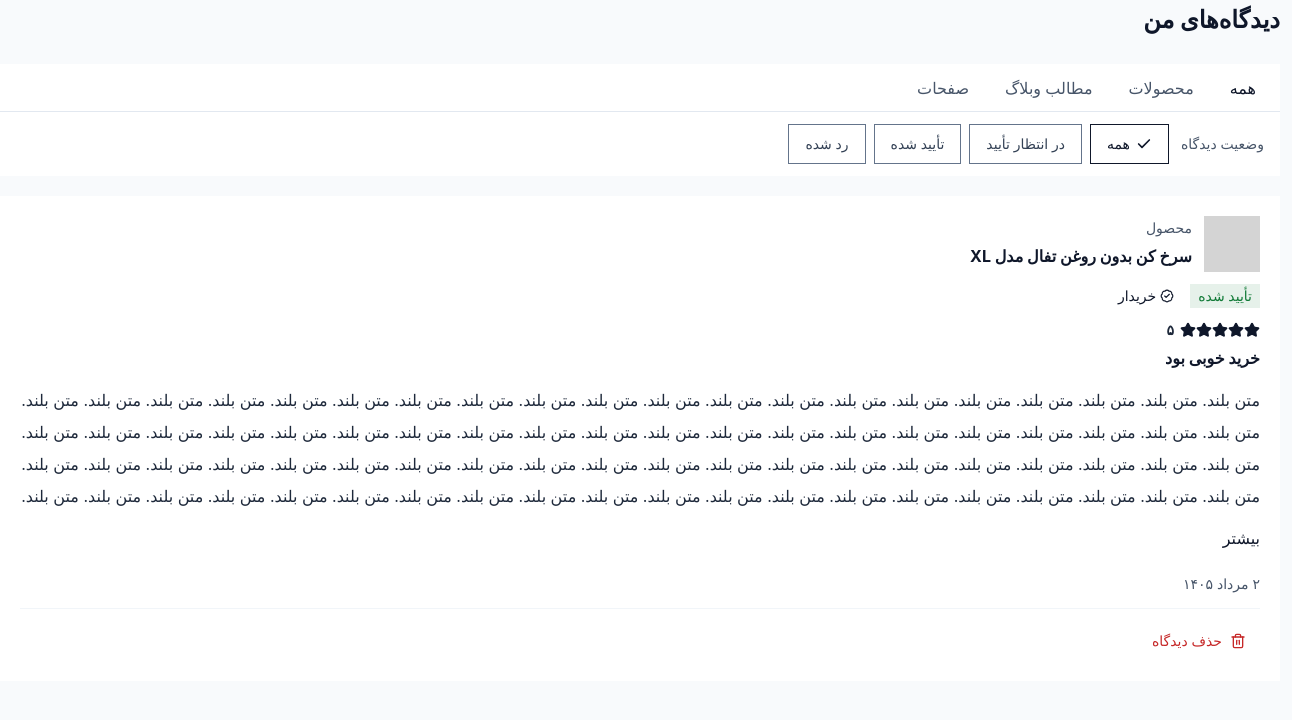
Test: CommentRow › «حذف دیدگاه» is named with the subject; a long text offers «بیشتر», the whole text in it
The width and height of the screenshot is (1292, 720).
Click the button "بیشتر".
click(1241, 538)  # box [1215, 516, 1268, 560]
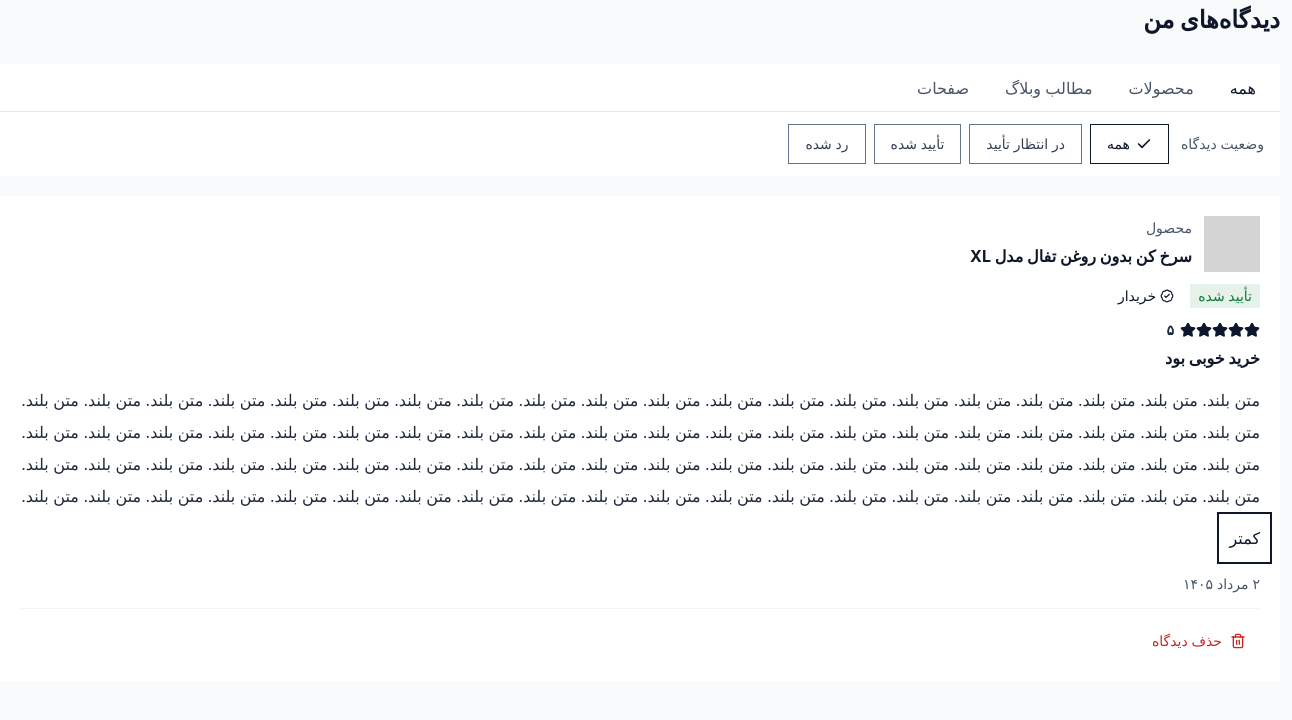
Now the button "کمتر" is expanded, box [1222, 516, 1268, 560]
